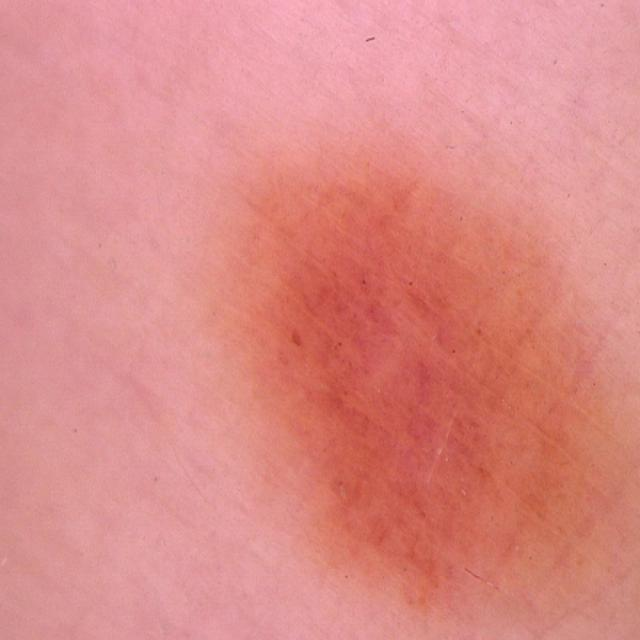NV: (205, 151, 634, 623)
